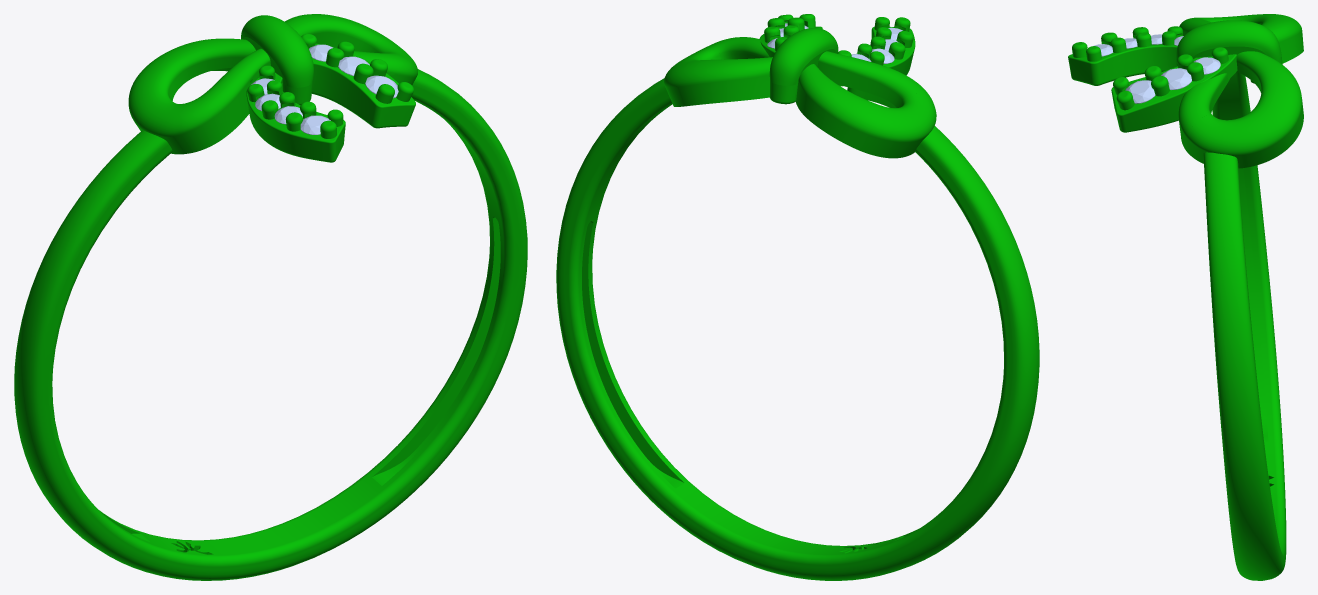
3 views of the same model, side by side, from view 1: azimuth 30°, elevation 25°; view 2: azimuth 150°, elevation 25°; view 3: azimuth 270°, elevation 25° (orthographic). The views are drawn at different scales.
Parts seen in each view (by area): view 1: a.3dm; view 2: a.3dm; view 3: a.3dm.
Part boxes in pixels (x1,y1,x2,y2): a.3dm: (14,14,527,580); a.3dm: (556,14,1039,580); a.3dm: (1068,14,1303,580).
Size of the model in its own units: 2.63 by 2.79 by 1.12.
